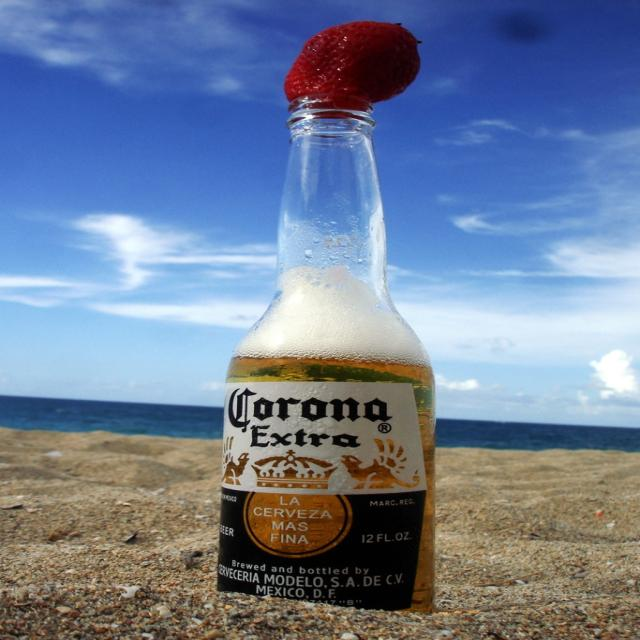corona: (217, 382, 428, 610)
